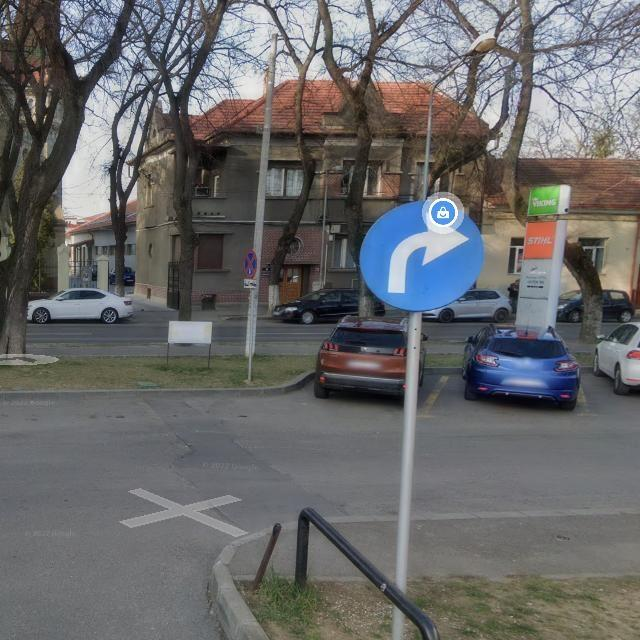forb_waiting: (242, 250, 258, 279)
